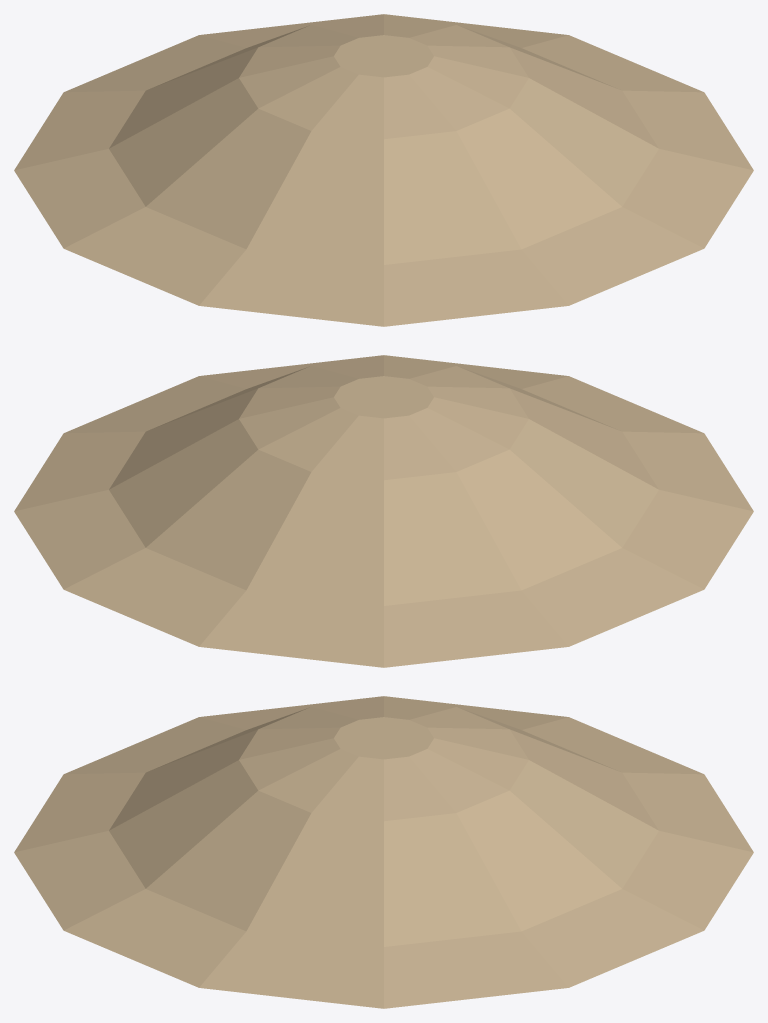
File: Prop_Track_Bump_Small_Round.obj
3 views of the same model, one above another, from view 1: azimuth 30°, elevation 25°; view 2: azimuth 150°, elevation 25°; view 3: azimuth 270°, elevation 25° (orthographic).
Visible parts, largest first — view 1: Dirt; view 2: Dirt; view 3: Dirt.
Boxes of the visible parts, <box> form: Dirt: <box>14,14,753,326</box>; Dirt: <box>14,355,753,667</box>; Dirt: <box>14,696,753,1008</box>.
Bounding box in the file's own units: 0.4403 × 0.075 × 0.4403.
